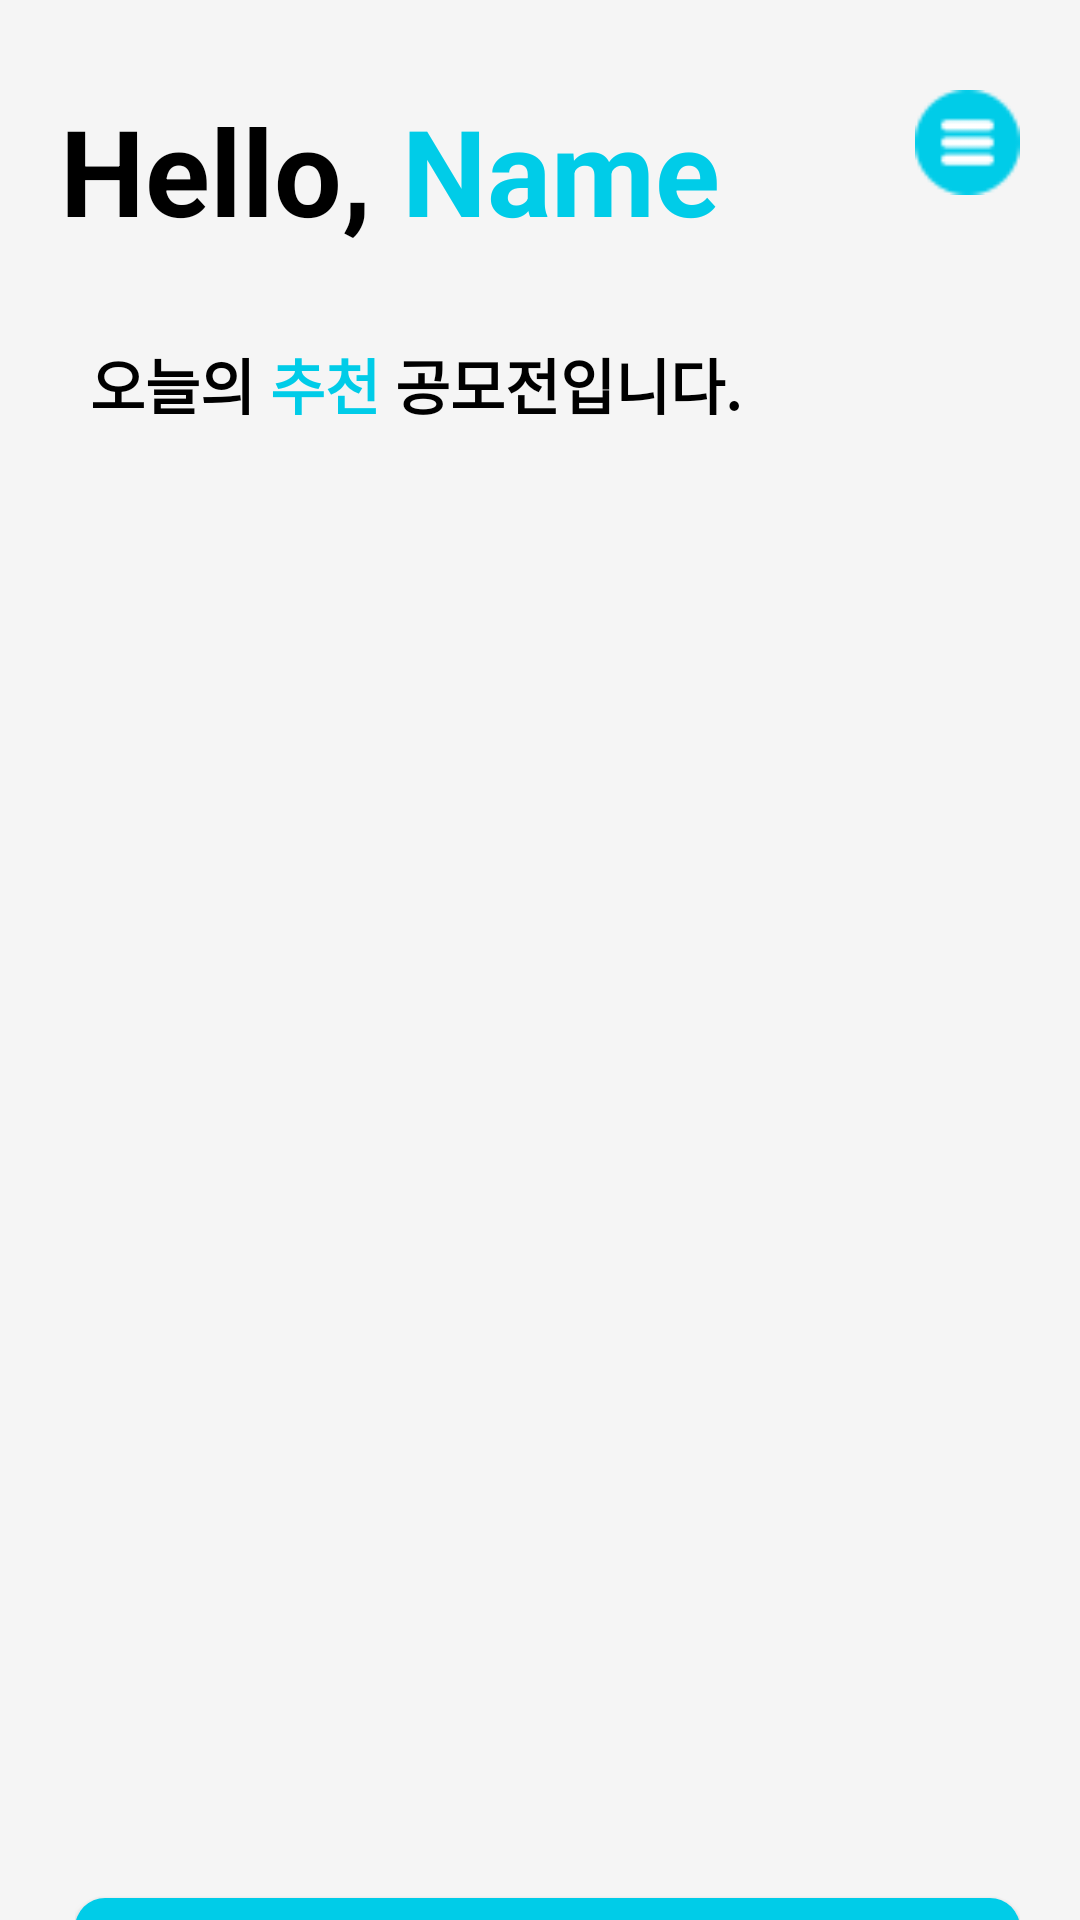

Icon click points for this 1080 × 1920 phone screenshot, format (x,y):
menu: (967,142)
